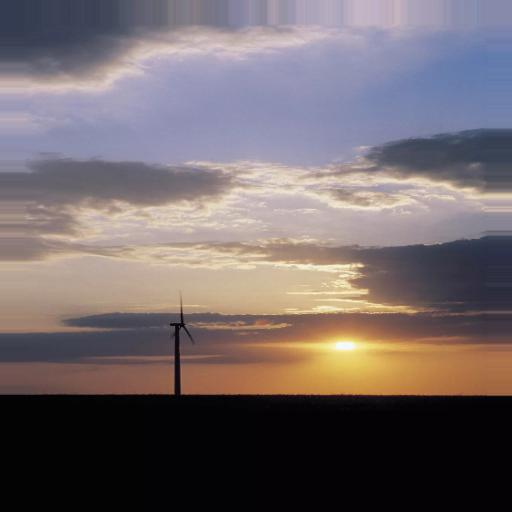wind turbine: (168, 289, 195, 398)
